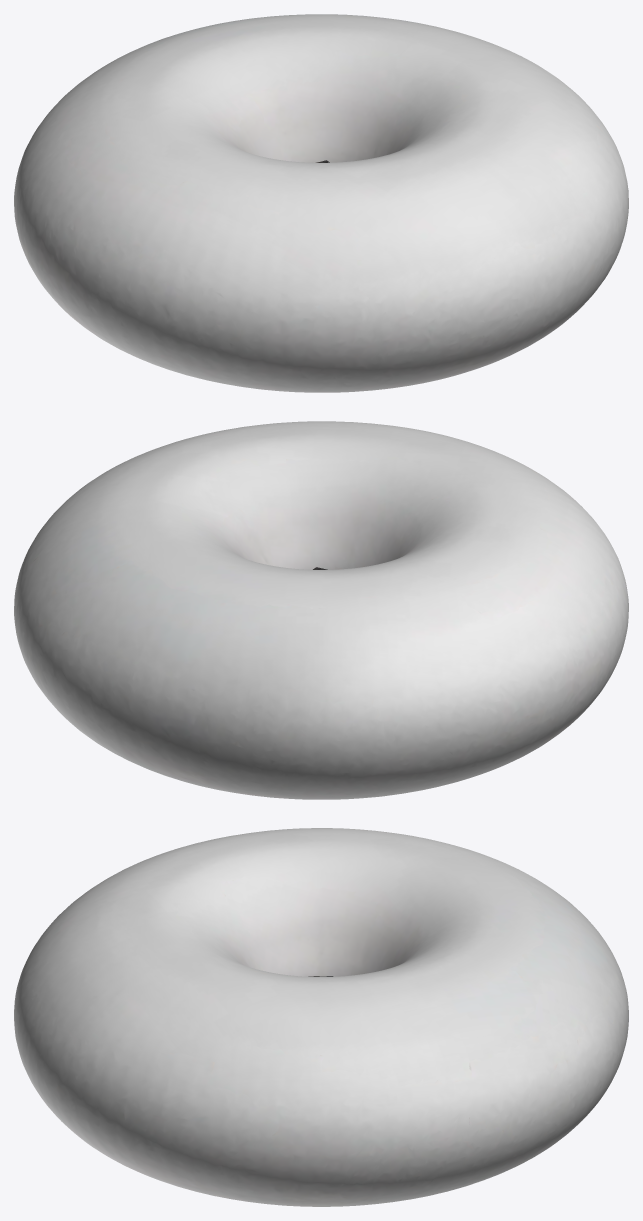
File: White Ceiling Flush Mount Light Fixture [g9zotN].glb
The picture shows the model from 3 angles, top to bottom: view 1: azimuth 30°, elevation 25°; view 2: azimuth 150°, elevation 25°; view 3: azimuth 270°, elevation 25°; orthographic projection.
Parts seen in each view (by area): view 1: world; view 2: world; view 3: world.
Part boxes in pixels (x1,y1,x2,y2): world: (14, 14, 628, 392); world: (14, 421, 628, 799); world: (14, 828, 628, 1206).
Size of the model in its own units: 1 by 0.3743 by 1.
1 material, 1 textured.
